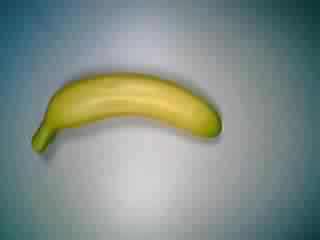banana: (29, 71, 228, 159)
